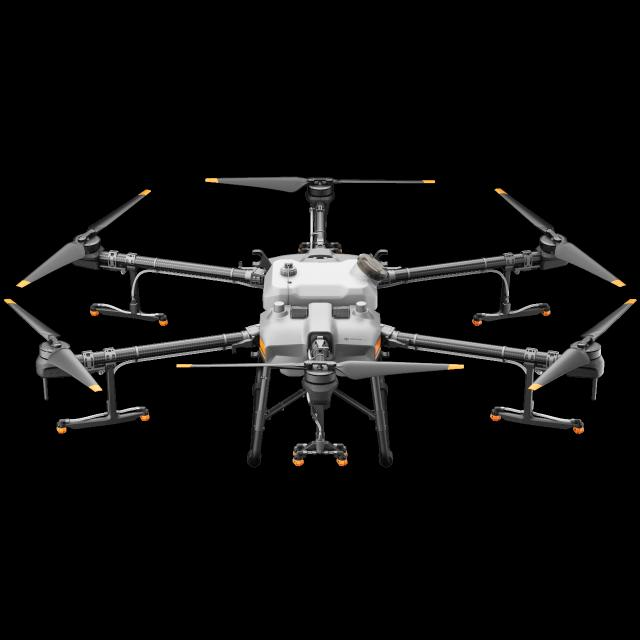drone: (0, 155, 640, 490)
